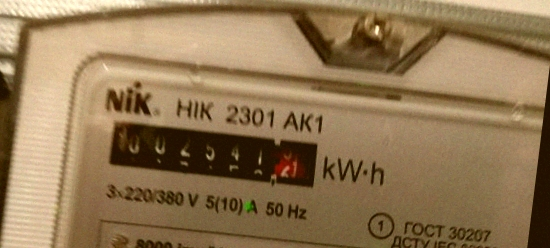0: (123, 127, 144, 155), (151, 128, 168, 156)
1: (250, 138, 267, 167)
2: (175, 131, 194, 158)
4: (227, 136, 243, 161)
5: (200, 133, 221, 163)
6: (276, 158, 293, 178)
screen: (94, 102, 334, 202)
